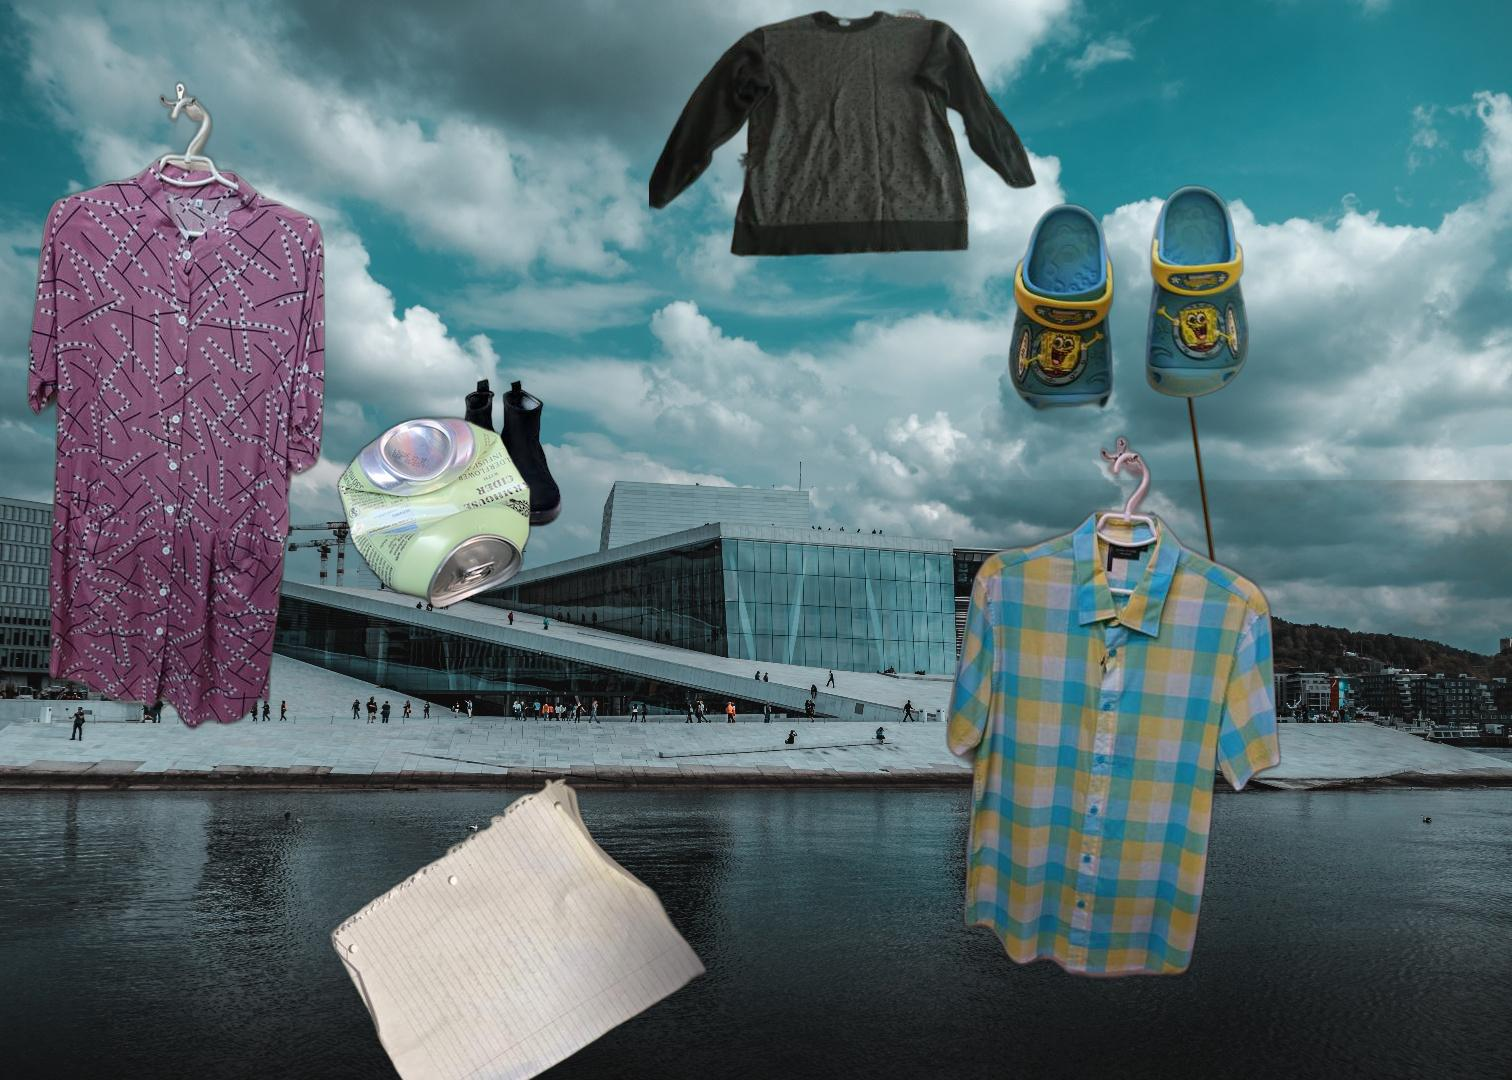clothes: (25, 76, 328, 735), (944, 431, 1283, 986), (649, 5, 1039, 265)
metal-cans: (167, 411, 679, 733)
paper: (324, 774, 712, 1080)
shoes: (1005, 181, 1251, 572), (439, 376, 564, 529)
trashbox-cardboard: (936, 480, 1512, 1080)
